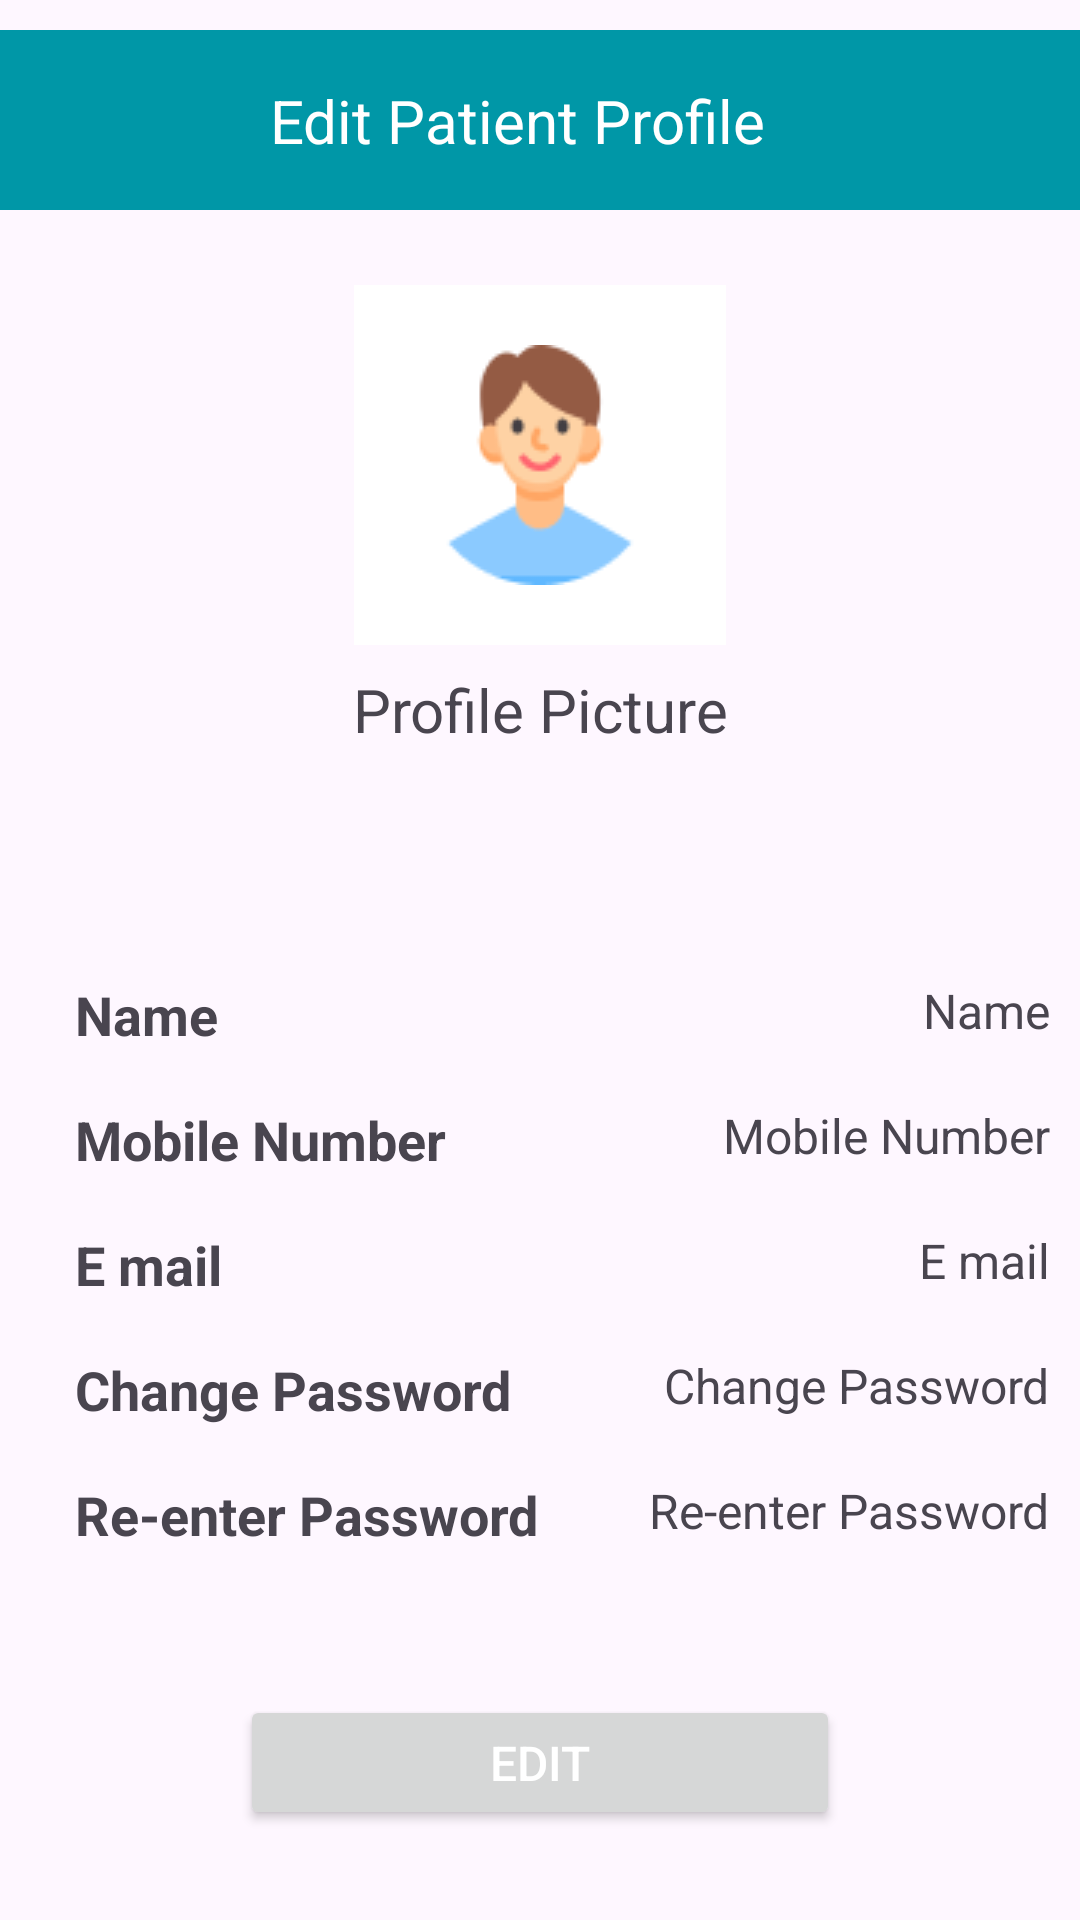

Icon click points for this 1080 x 1920 phone screenshot, format [x,y]:
patient profile pic: [540,465]
